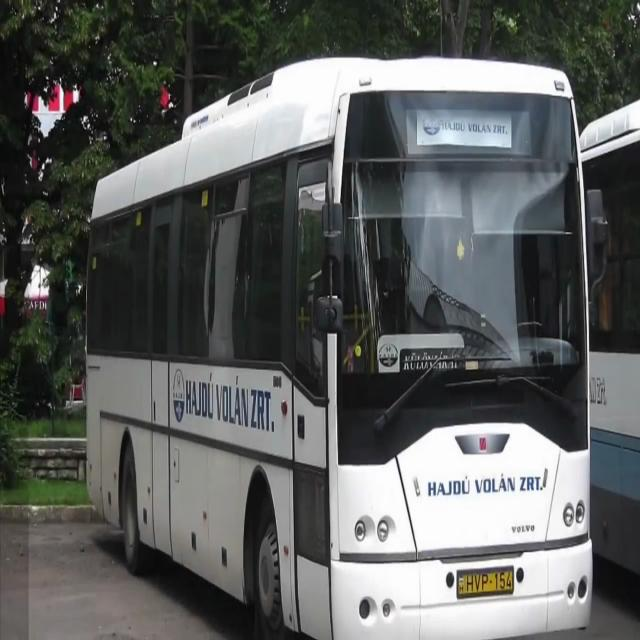bus: (81, 50, 600, 640)
